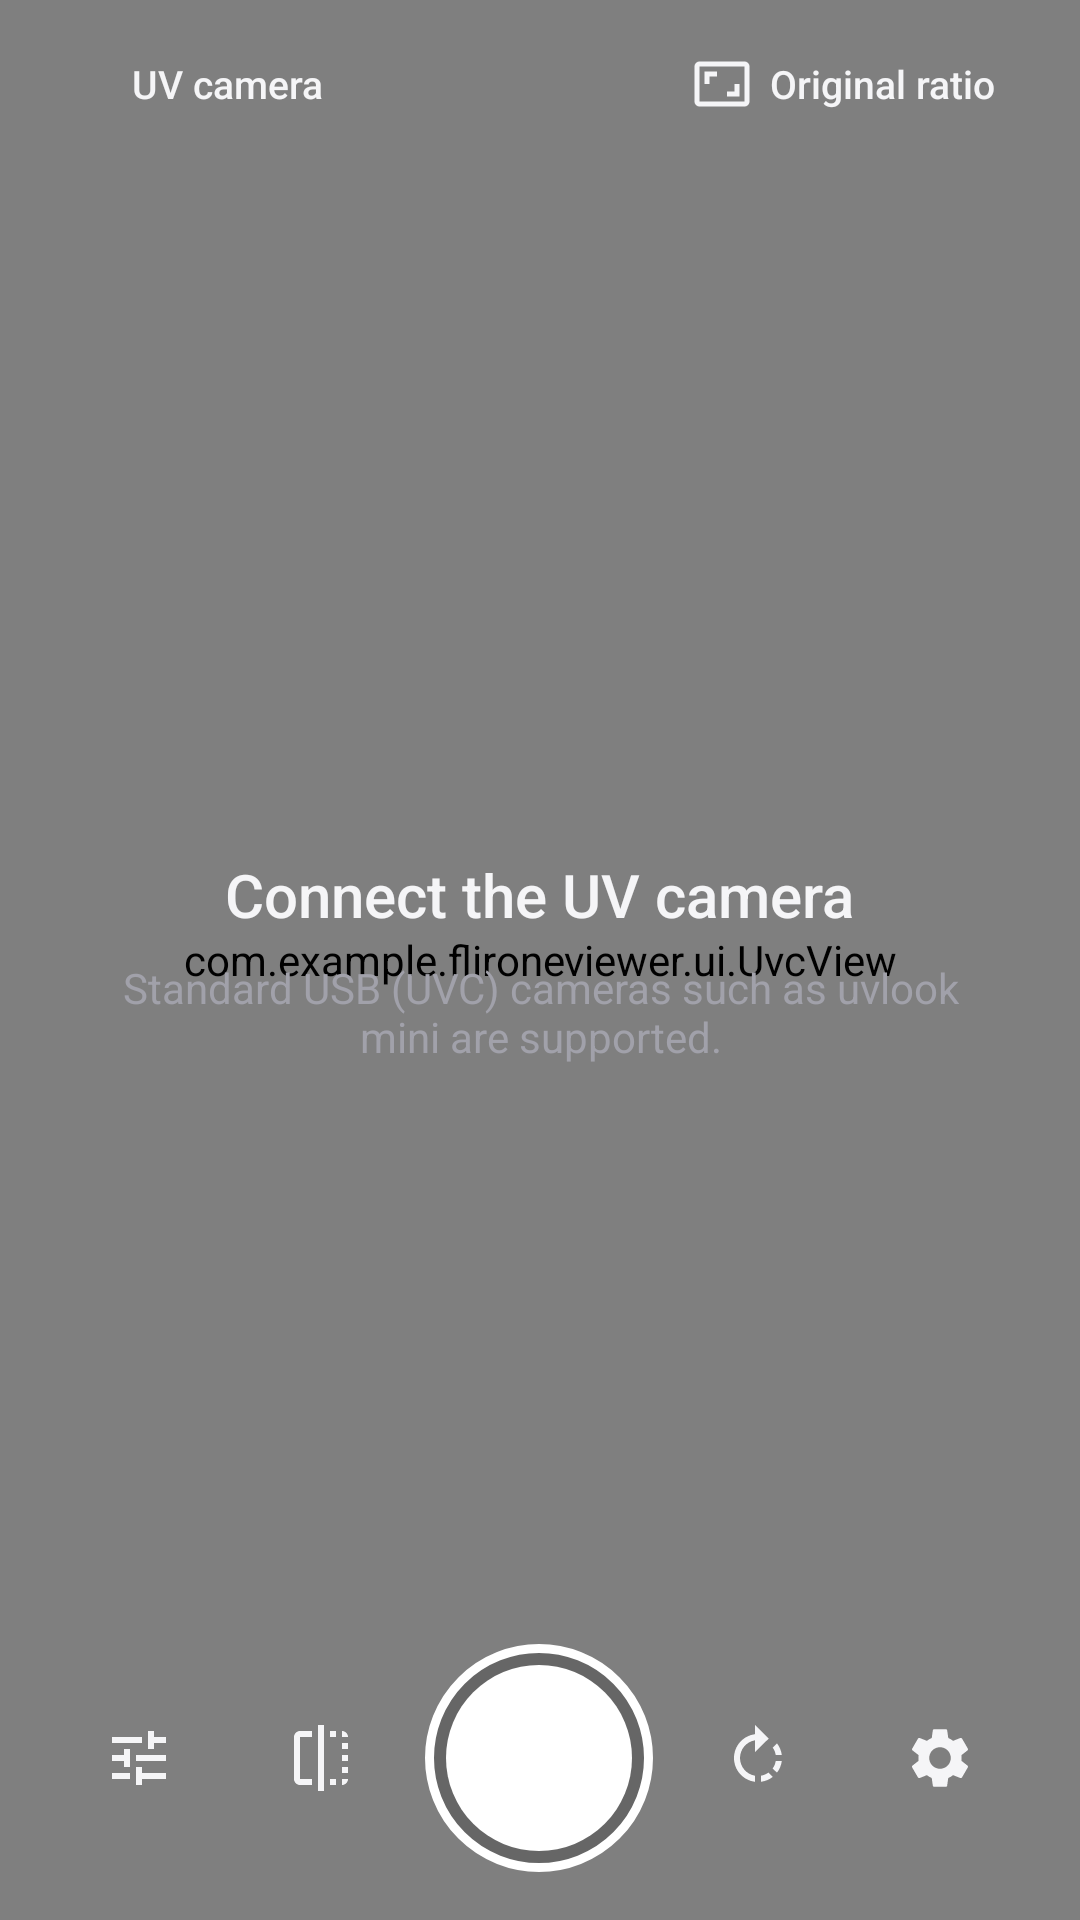

Locate icon controls on the screen. Image size 1080×1920, boxes as (x1, y1, x2, y2).
Image adjustments: (112, 1731, 166, 1785)
Mirror: (294, 1725, 348, 1791)
Rotate: (734, 1725, 782, 1782)
